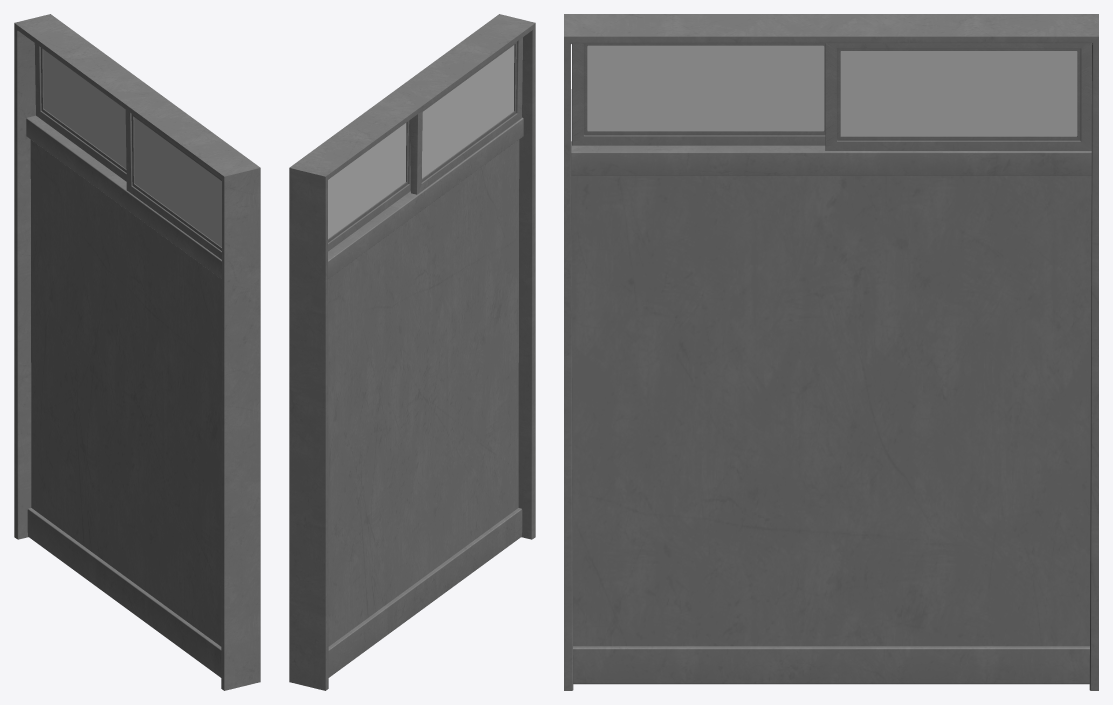
The model's file is SM_Partition_03.fbx.
3 renders of one model, left to right at view 1: azimuth 30°, elevation 25°; view 2: azimuth 150°, elevation 25°; view 3: azimuth 270°, elevation 25°, orthographic. The views are drawn at different scales.
Visible parts, largest first — view 1: SM_Partition_03_LOD0; view 2: SM_Partition_03_LOD0; view 3: SM_Partition_03_LOD0.
Boxes of the visible parts, x1=… form: SM_Partition_03_LOD0: x1=14, y1=14, x2=260, y2=690; SM_Partition_03_LOD0: x1=289, y1=14, x2=535, y2=690; SM_Partition_03_LOD0: x1=564, y1=14, x2=1098, y2=690.
Bounding box in the file's own units: 20 × 200 × 270.
